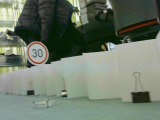speed_30: (25, 41, 48, 65)
